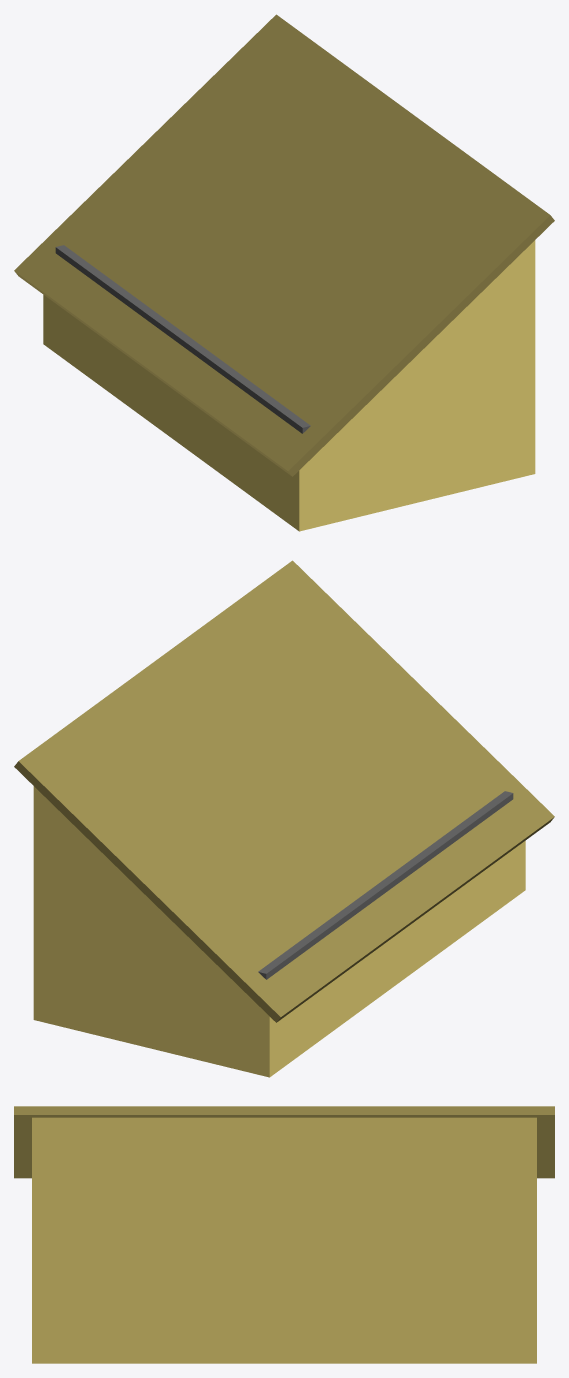
File: result.glb
3 views of the same model, one above another, from view 1: azimuth 30°, elevation 25°; view 2: azimuth 150°, elevation 25°; view 3: azimuth 270°, elevation 25° (orthographic).
Visible parts, largest first — view 1: 38c5dfd0-0401-400c-b613-76e00f6ade1a__undefined, 1f97cff0-f8d2-442d-a696-3cada738618b__undefined, c80223c0-bac3-471b-8765-7592681eb678__Box; view 2: 38c5dfd0-0401-400c-b613-76e00f6ade1a__undefined, 1f97cff0-f8d2-442d-a696-3cada738618b__undefined, c80223c0-bac3-471b-8765-7592681eb678__Box; view 3: 1f97cff0-f8d2-442d-a696-3cada738618b__undefined, 38c5dfd0-0401-400c-b613-76e00f6ade1a__undefined.
Part boxes in pixels (x1,y1,x2,y2): 38c5dfd0-0401-400c-b613-76e00f6ade1a__undefined: [14, 14, 554, 476]; 1f97cff0-f8d2-442d-a696-3cada738618b__undefined: [43, 240, 535, 531]; c80223c0-bac3-471b-8765-7592681eb678__Box: [55, 245, 310, 433]; 38c5dfd0-0401-400c-b613-76e00f6ade1a__undefined: [14, 560, 554, 1022]; 1f97cff0-f8d2-442d-a696-3cada738618b__undefined: [33, 786, 525, 1077]; c80223c0-bac3-471b-8765-7592681eb678__Box: [258, 791, 513, 979]; 1f97cff0-f8d2-442d-a696-3cada738618b__undefined: [32, 1117, 536, 1363]; 38c5dfd0-0401-400c-b613-76e00f6ade1a__undefined: [14, 1106, 554, 1178].
Bounding box in the file's own units: 851 × 804 × 1514.
